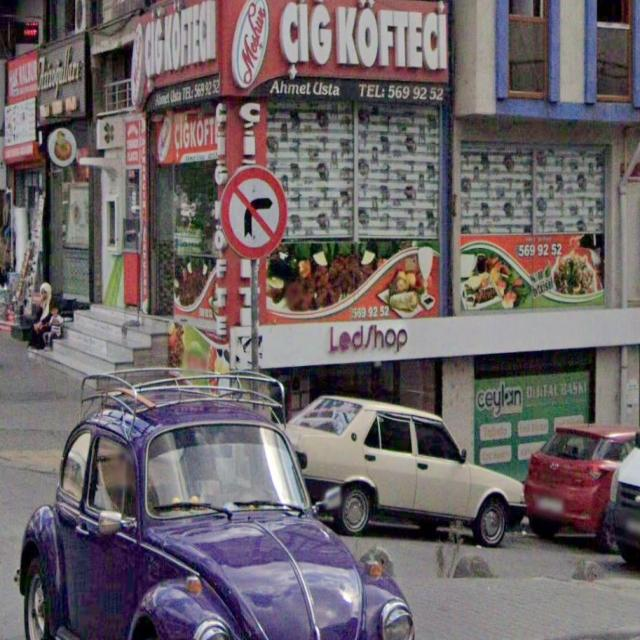sagadonulmez: (220, 168, 287, 259)
